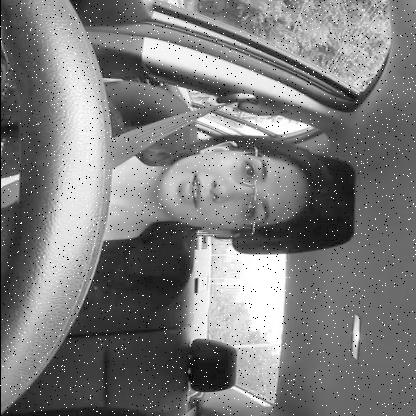seatbelt: (0, 87, 345, 246)
